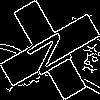N: (25, 25, 83, 79)
